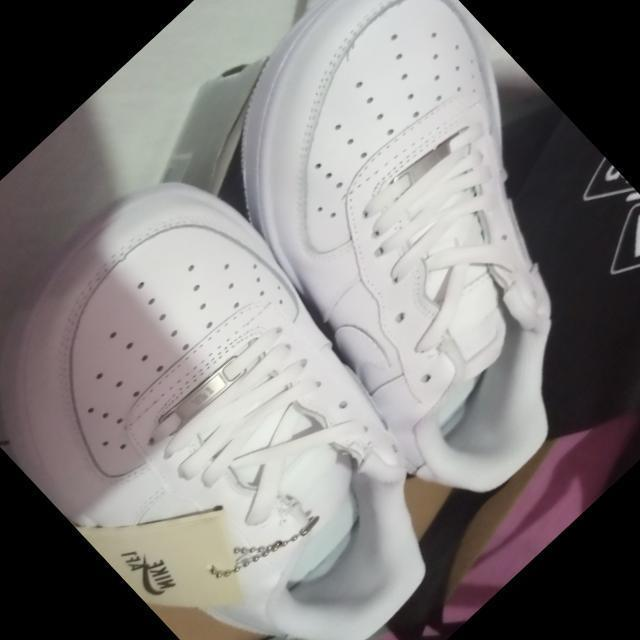nike fake air force: (0, 133, 526, 640), (137, 0, 640, 522)
